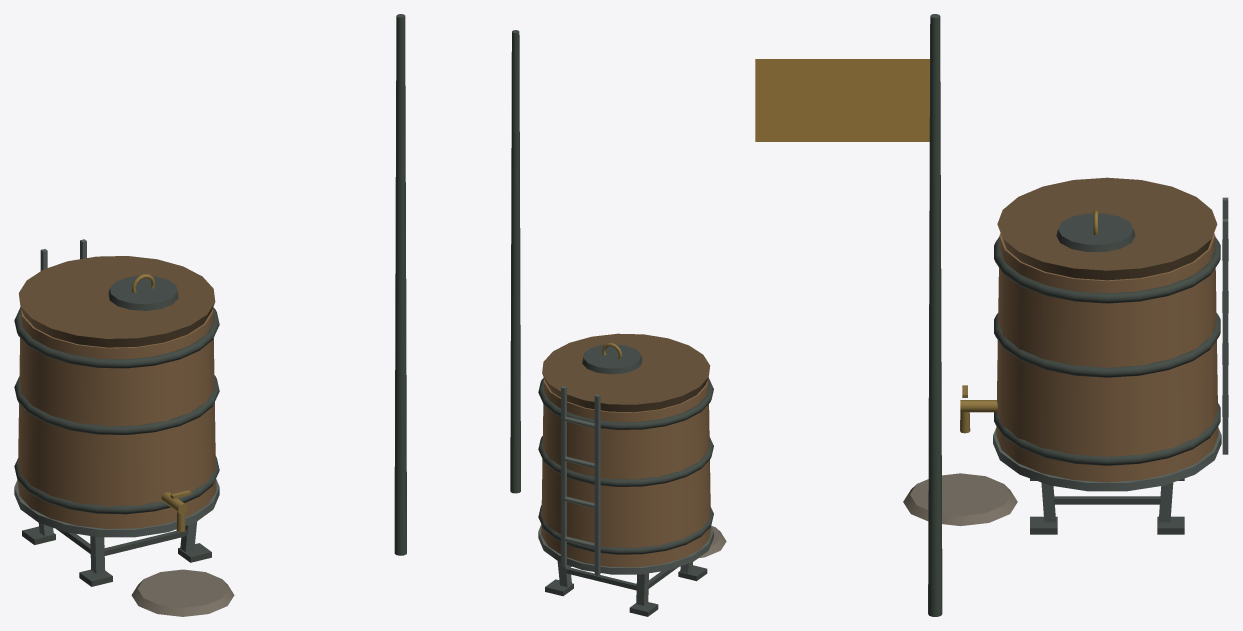
Rendered from farmstead-clutter.m1.glb.
The picture shows the model from 3 angles, left to right: view 1: azimuth 30°, elevation 25°; view 2: azimuth 150°, elevation 25°; view 3: azimuth 270°, elevation 25°; orthographic projection. The views are drawn at different scales.
Visible parts, largest first — view 1: waterButtStaves, waterButtHardware, farmsteadClutter; view 2: waterButtHardware, waterButtStaves, farmsteadClutter; view 3: waterButtStaves, waterButtHardware, farmBannerSign, farmsteadClutter.
Part boxes in pixels (box(x1,y1,x2,y2)): waterButtStaves: box(17, 307, 216, 528); waterButtHardware: box(14, 239, 234, 616); farmsteadClutter: box(394, 14, 406, 555); waterButtHardware: box(538, 333, 726, 616); waterButtStaves: box(541, 378, 710, 567); farmsteadClutter: box(510, 30, 520, 493); waterButtStaves: box(996, 233, 1218, 482); waterButtHardware: box(903, 177, 1228, 534); farmBannerSign: box(755, 59, 929, 141); farmsteadClutter: box(928, 14, 942, 616).
Size of the model in its own units: 2.7 by 4.6 by 3.3.
